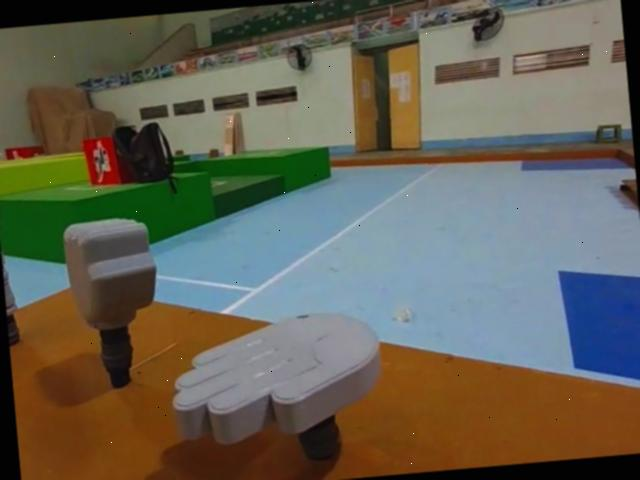Fist: (55, 211, 166, 392)
Hand: (156, 303, 389, 480)
Sph: (0, 76, 28, 359)
